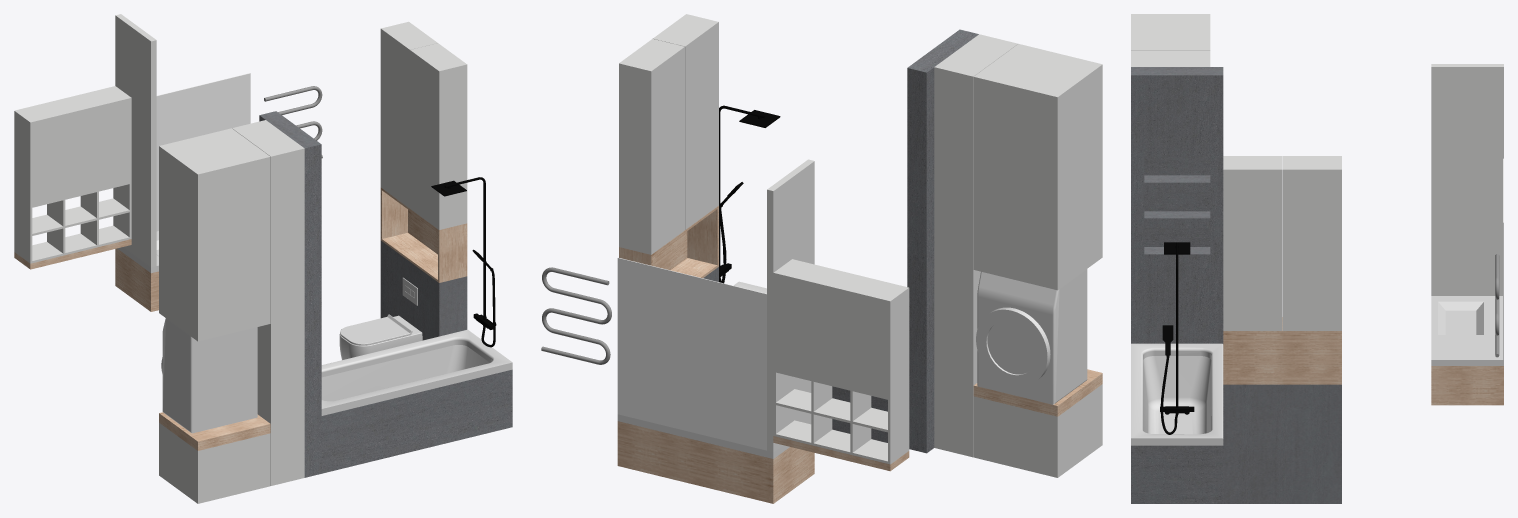
The model's file is utility-room-v2.glb.
The picture shows the model from 3 angles, left to right: view 1: azimuth 30°, elevation 25°; view 2: azimuth 150°, elevation 25°; view 3: azimuth 270°, elevation 25°; orthographic projection. The views are drawn at different scales.
Parts seen in each view (by area): view 1: Body32, Body45, Body4, Body28, Body34, Body31, Body2, Body41, Body20, Body46, Body43, Body26 (+10 smaller); view 2: Body32, Body42, Body45, Body43, Body31, Body34, Body20, Body39, Body46, Body28, Body41, Body33 (+6 smaller); view 3: Body20, Body41, Body26, Body28, Body43, Body2, Body27, Body4, Body40, Body32, Body39, Body33 (+2 smaller).
Boxes of the visible parts, x1,y1,x2,y2 form: Body32: (159, 128, 270, 341); Body45: (14, 86, 131, 263); Body4: (321, 369, 512, 473); Body28: (410, 43, 467, 229); Body34: (257, 237, 304, 485); Body31: (161, 318, 257, 433); Body2: (321, 329, 512, 415); Body41: (115, 14, 156, 267); Body20: (259, 111, 321, 477); Body46: (159, 423, 270, 503); Body43: (380, 21, 437, 208); Body26: (380, 240, 467, 340); Body32: (973, 44, 1102, 290); Body42: (617, 257, 766, 450); Body45: (773, 259, 909, 464); Body43: (619, 39, 684, 254); Body31: (976, 269, 1087, 404); Body34: (934, 169, 980, 457); Body20: (907, 29, 978, 453); Body39: (617, 421, 814, 503); Body46: (973, 384, 1102, 477); Body28: (653, 14, 718, 229); Body41: (767, 159, 814, 452); Body33: (934, 34, 1017, 178); Body20: (1131, 67, 1223, 343); Body41: (1431, 64, 1503, 295); Body26: (1223, 384, 1341, 503); Body28: (1223, 156, 1282, 330); Body43: (1282, 156, 1341, 330); Body2: (1131, 343, 1223, 445); Body27: (1223, 317, 1341, 384); Body4: (1131, 445, 1223, 503); Body40: (1431, 296, 1503, 365); Body32: (1131, 14, 1210, 50); Body39: (1431, 366, 1503, 405); Body33: (1131, 50, 1210, 66).
Bounding box in the file's own units: 2.8 × 2.8 × 2.83.
Materials: 7 (2 with a texture image).
